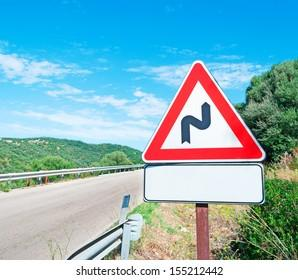Right Reverse Bend: (141, 61, 267, 165)
